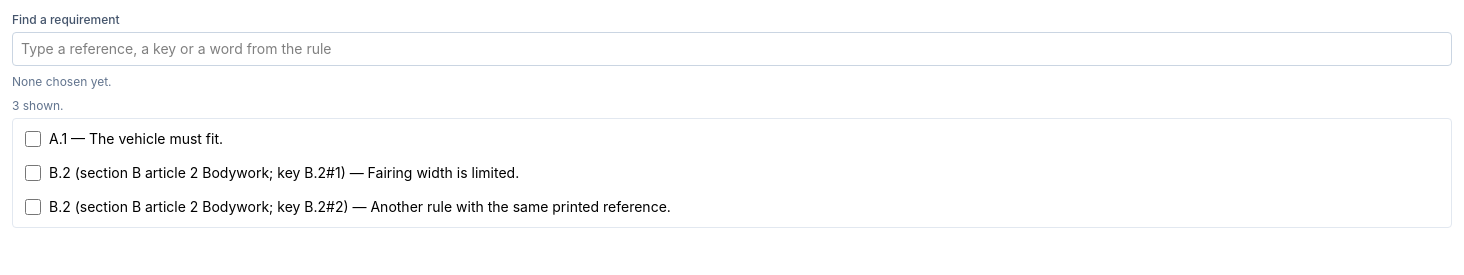
it: RequirementPicker › tells two requirements with the same printed reference apart, and selects each on its own
Click the checkbox labelled "key B.2#2" at (33, 207), box [25, 199, 41, 215]
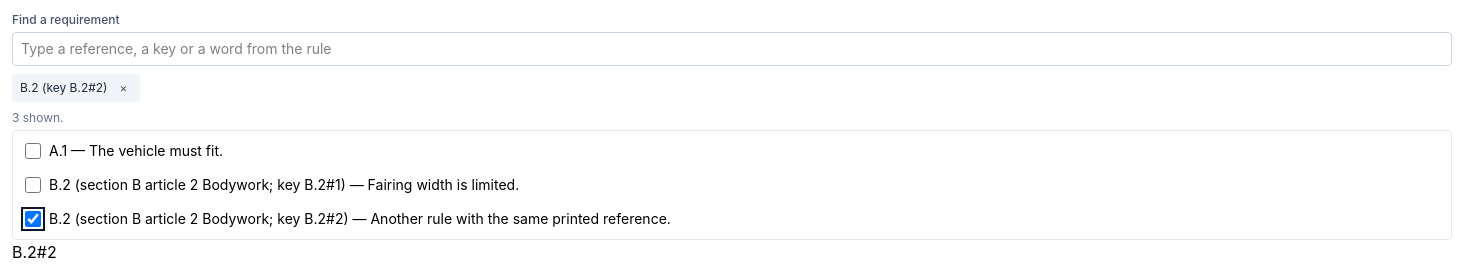
Expected: the checkbox labelled "key B.2#1" is not checked, [25, 177, 41, 193]
Result: the checkbox labelled "key B.2#2" is checked at [25, 211, 41, 227]
Result: the text "B.2 (key B.2#2)" is shown at [20, 80, 108, 96]
